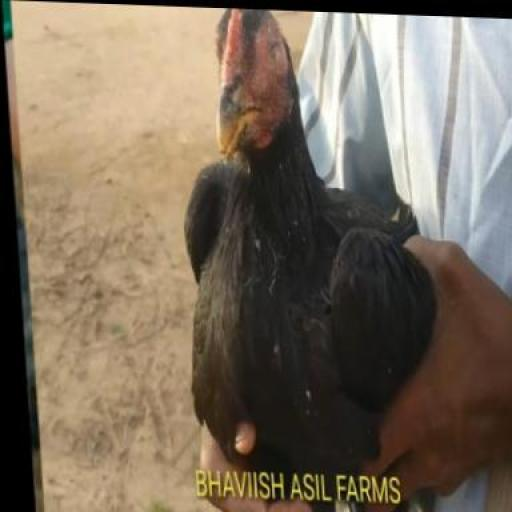disease: (234, 9, 297, 56)
